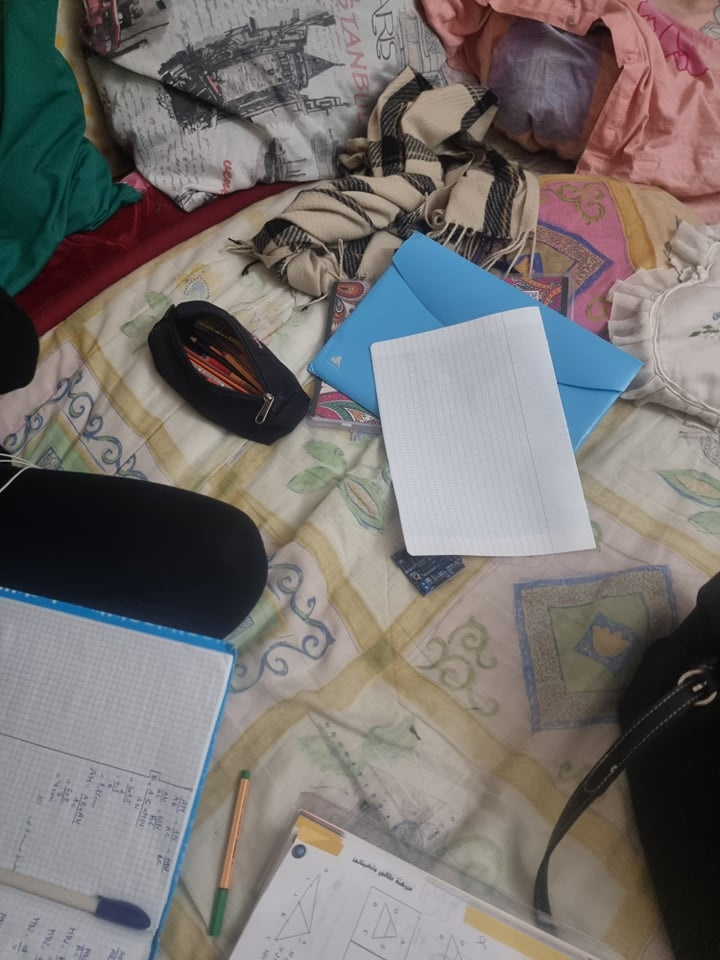5V EXPANSION: (390, 540, 466, 596)
